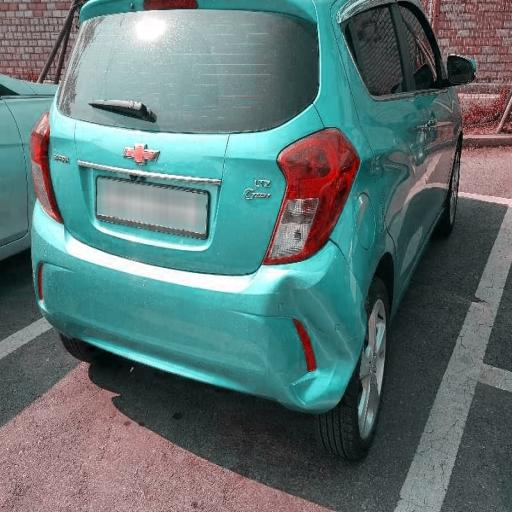dent: (230, 212, 376, 435)
